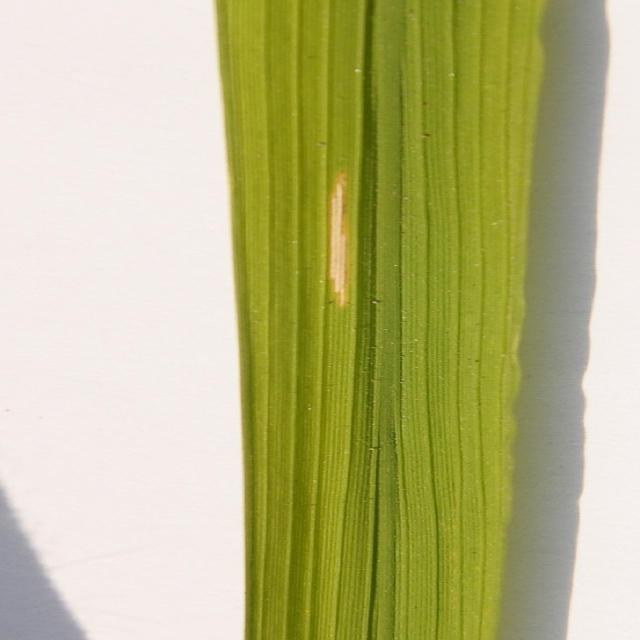Bacterial leaf blight: (291, 134, 384, 336)
